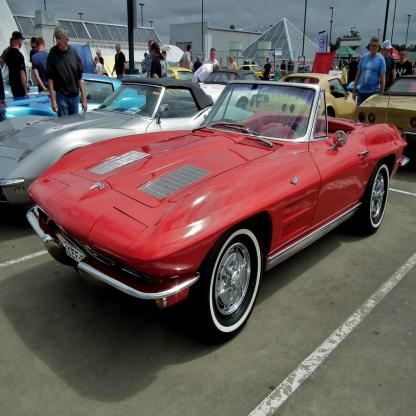Car: (1, 64, 416, 340)
